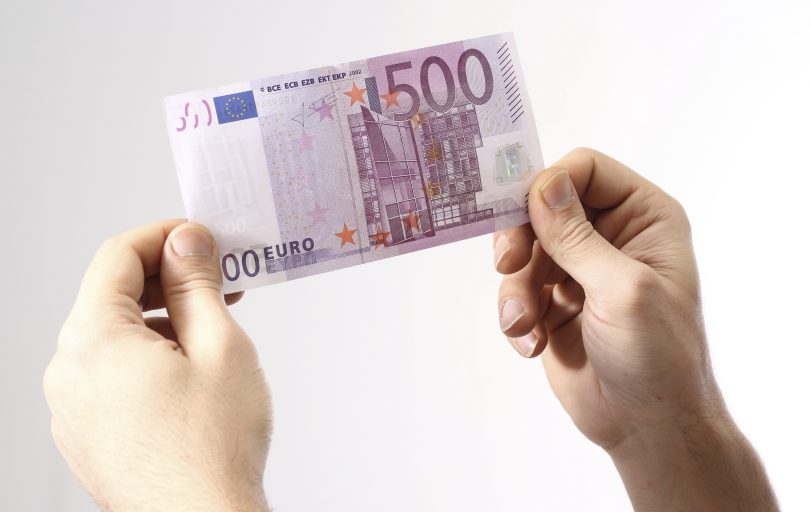billete: (156, 30, 557, 293)
